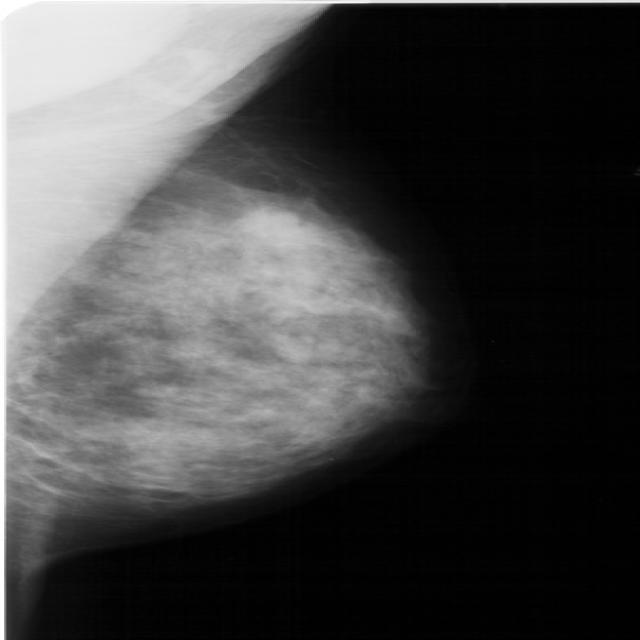tumour: (232, 203, 315, 248)
